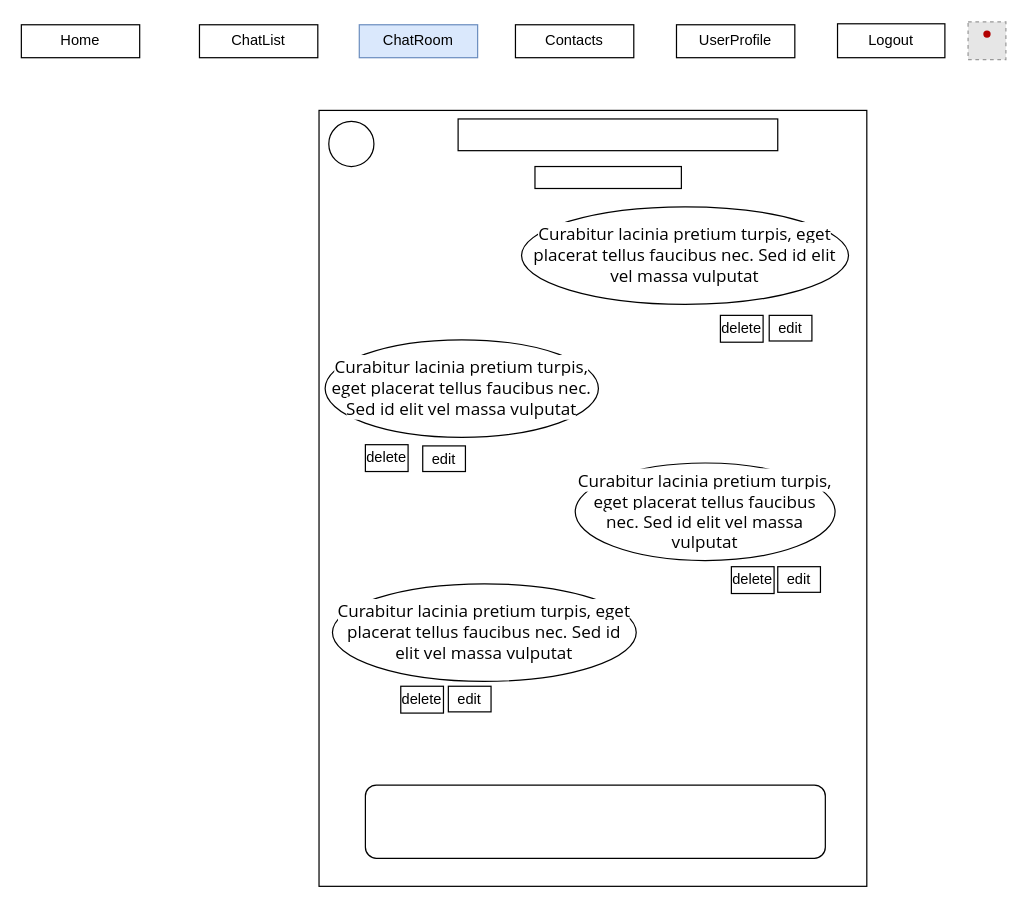
The diagram is 1027 pixels wide and 908 high, and some of its shapes have lost their labels. Grey dashed boxes stand in for pictures. The shapes that lost their labels are listed below. From the top down, each one's centre as x and y in pixels, then its label:
(x=351, y=143): Participant Avatar
(x=617, y=134): Converstion name
(x=607, y=176): Day. Hr:min
(x=594, y=821): Text/media input Area
